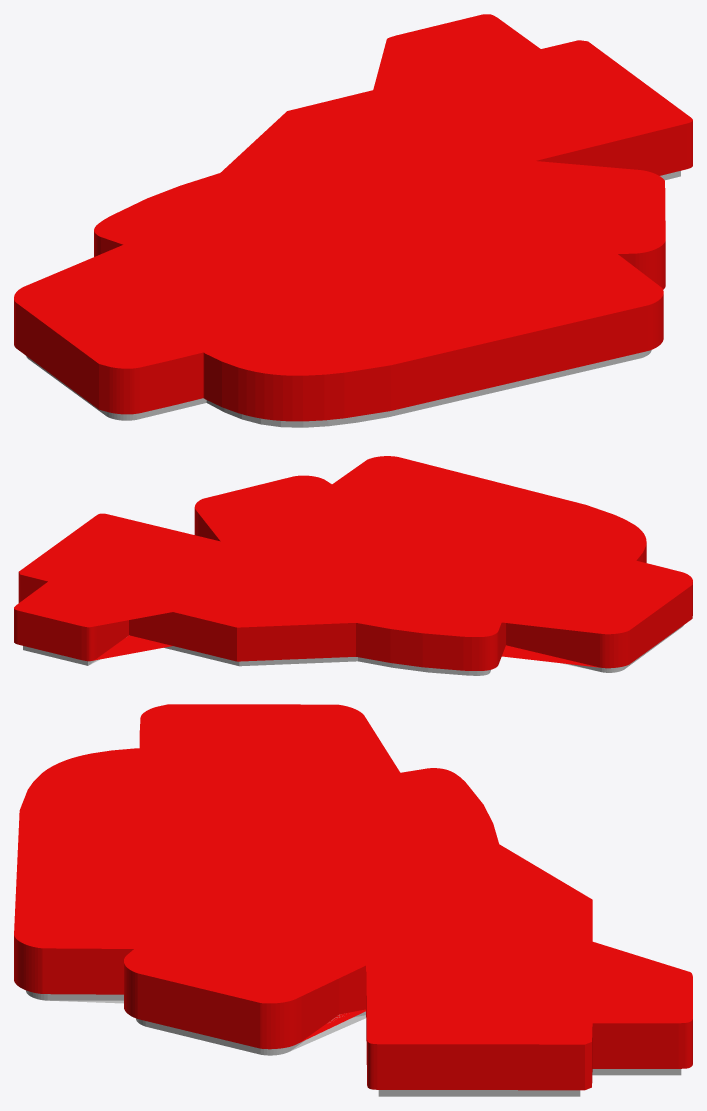
File: intro level.fbx
The picture shows the model from 3 angles, top to bottom: view 1: azimuth 30°, elevation 25°; view 2: azimuth 150°, elevation 25°; view 3: azimuth 270°, elevation 25°; orthographic projection. The views are drawn at different scales.
Visible parts, largest first — view 1: walls, floor; view 2: walls, floor; view 3: walls, floor.
Part boxes in pixels (x1,y1,x2,y2): walls: (14, 14, 692, 421); floor: (26, 171, 680, 427); walls: (14, 456, 692, 670); floor: (23, 625, 683, 675); walls: (14, 704, 692, 1090); floor: (26, 990, 681, 1096).
Bounding box in the file's own units: 3194 × 250 × 2693.
